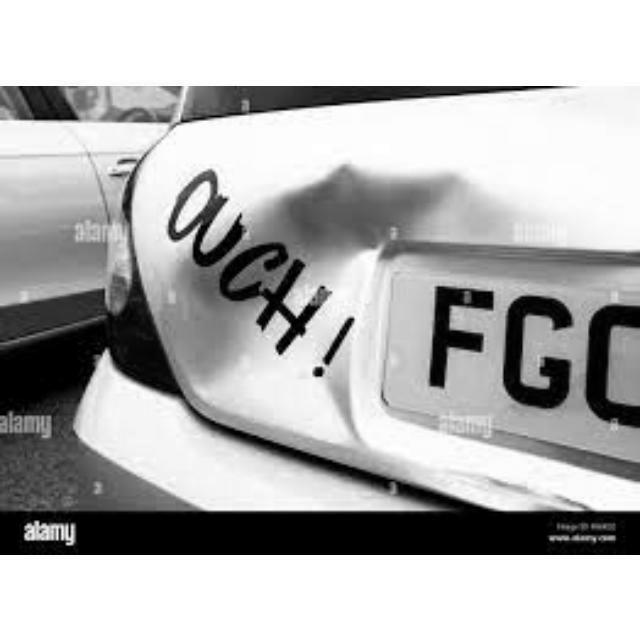boot-dent: (170, 160, 576, 458)
